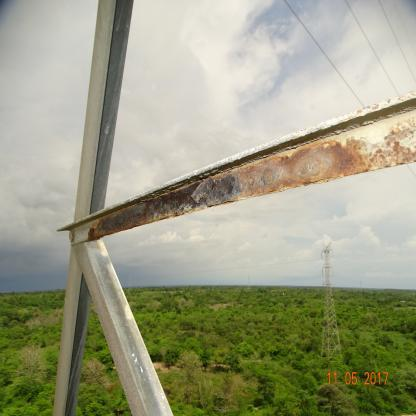rust: (233, 117, 415, 202), (88, 171, 243, 242)
